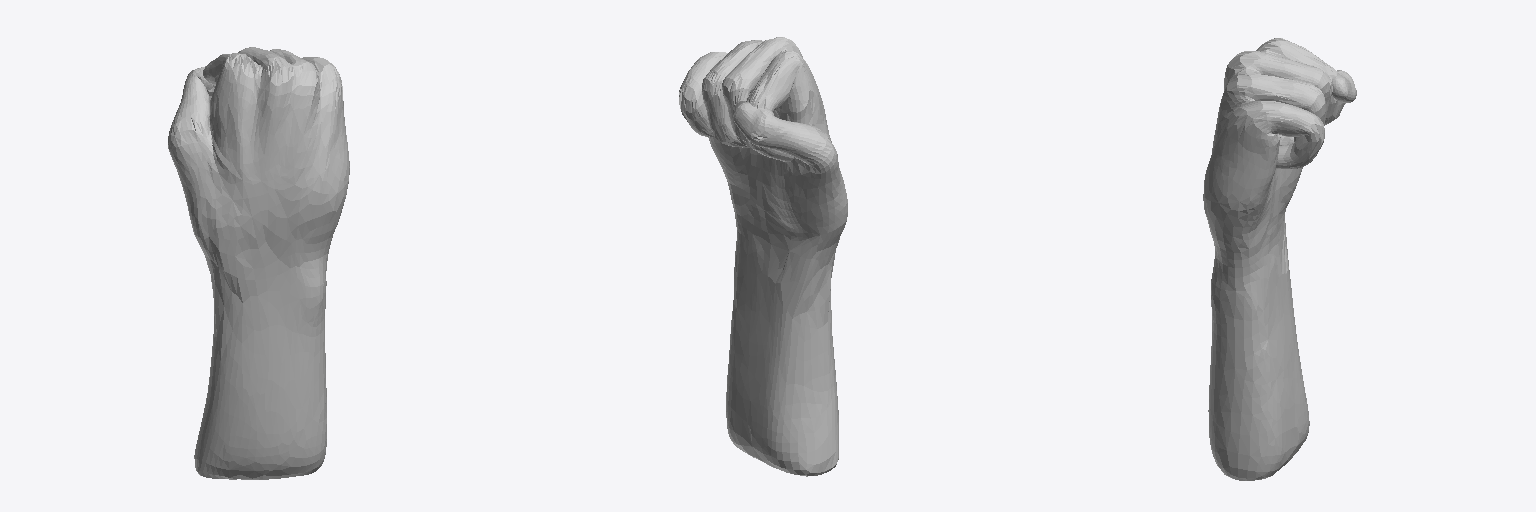
The model's file is mains.obj.
3 views of the same model, side by side, from view 1: azimuth 30°, elevation 25°; view 2: azimuth 150°, elevation 25°; view 3: azimuth 270°, elevation 25° (orthographic).
Parts seen in each view (by area): view 1: ZBrush_defualt_group; view 2: ZBrush_defualt_group; view 3: ZBrush_defualt_group.
Boxes of the visible parts, x1=… form: ZBrush_defualt_group: x1=168, y1=47, x2=349, y2=479; ZBrush_defualt_group: x1=679, y1=37, x2=847, y2=476; ZBrush_defualt_group: x1=1203, y1=38, x2=1356, y2=480.
Size of the model in its own units: 2.82 by 7.31 by 2.46.